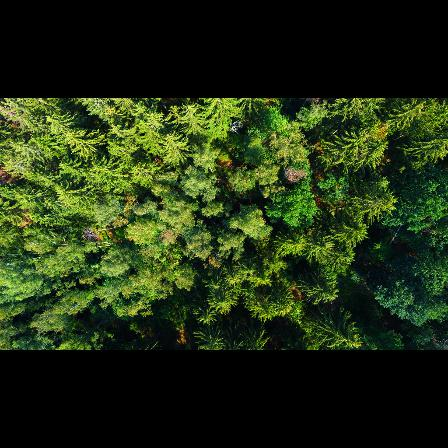Dead: (280, 164, 312, 184), (227, 119, 245, 136)
